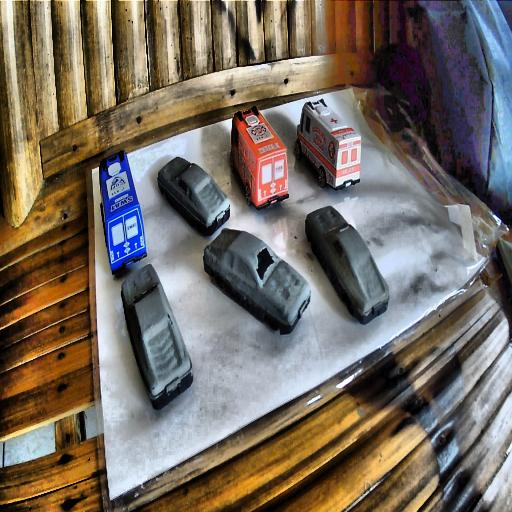ambulance: (296, 96, 362, 191), (229, 103, 288, 207)
normal_car: (202, 227, 308, 334), (121, 264, 193, 409), (303, 206, 389, 324), (157, 154, 231, 237)
police car: (98, 150, 148, 276)
